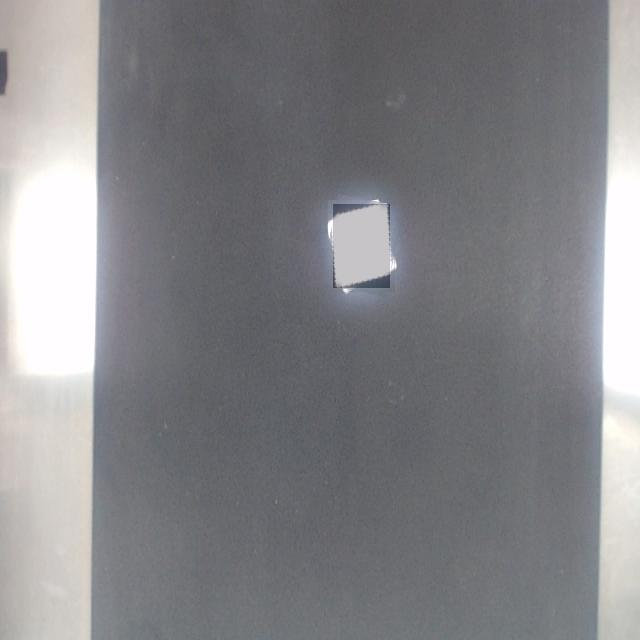Blanco: (333, 204, 390, 288)
